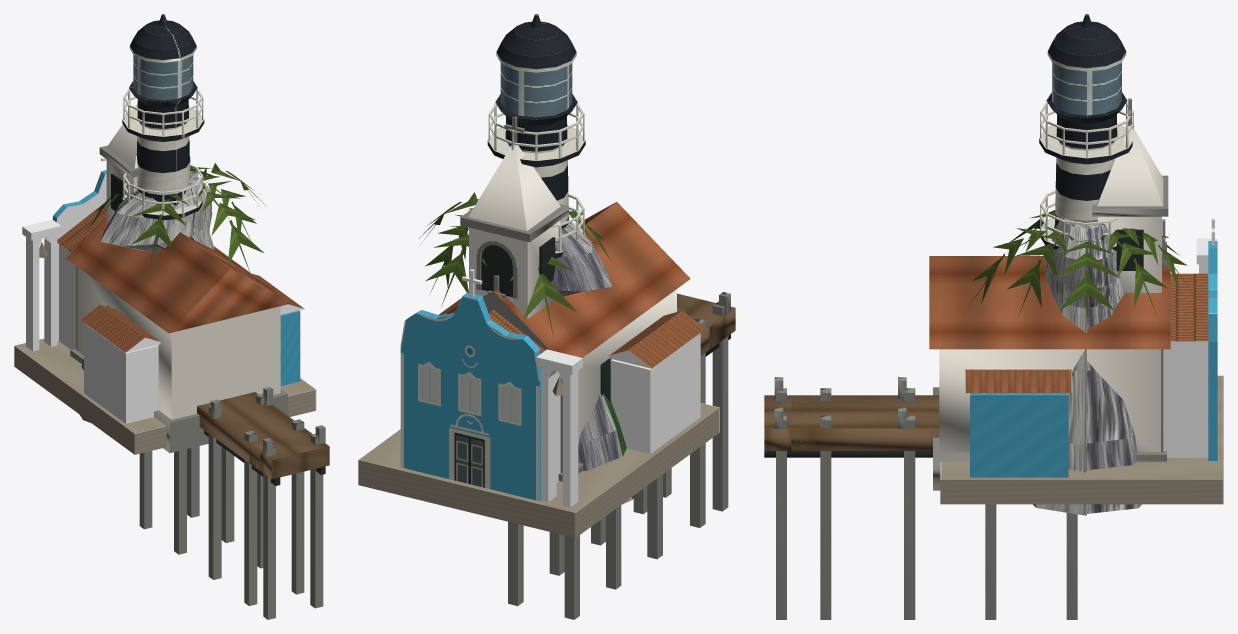
File: landmark-features.v1.glb
3 views of the same model, side by side, from view 1: azimuth 30°, elevation 25°; view 2: azimuth 150°, elevation 25°; view 3: azimuth 270°, elevation 25° (orthographic). The views are drawn at different scales.
Parts seen in each view (by area): view 1: ilha-grande-sao-sebastiao, boipeba-divino-church, ilha-grande-abraao-pier, abrolhos-lighthouse, ilha-grande-papagaio, boipeba-coconut-palm; view 2: boipeba-divino-church, ilha-grande-sao-sebastiao, ilha-grande-abraao-pier, abrolhos-lighthouse, ilha-grande-papagaio, boipeba-coconut-palm; view 3: ilha-grande-sao-sebastiao, boipeba-divino-church, ilha-grande-abraao-pier, abrolhos-lighthouse, ilha-grande-papagaio, boipeba-coconut-palm.
Boxes of the visible parts, x1,y1,x2,y2 form: ilha-grande-sao-sebastiao: [66, 103, 291, 452]; boipeba-divino-church: [14, 157, 316, 454]; ilha-grande-abraao-pier: [139, 387, 329, 619]; abrolhos-lighthouse: [122, 14, 204, 220]; ilha-grande-papagaio: [79, 171, 214, 422]; boipeba-coconut-palm: [88, 163, 266, 276]; boipeba-divino-church: [358, 269, 719, 537]; ilha-grande-sao-sebastiao: [445, 116, 690, 481]; ilha-grande-abraao-pier: [508, 292, 735, 619]; abrolhos-lighthouse: [487, 14, 585, 257]; ilha-grande-papagaio: [550, 223, 634, 504]; boipeba-coconut-palm: [419, 192, 611, 337]; ilha-grande-sao-sebastiao: [929, 98, 1170, 490]; boipeba-divino-church: [940, 218, 1223, 504]; ilha-grande-abraao-pier: [764, 377, 1077, 619]; abrolhos-lighthouse: [1039, 14, 1133, 250]; ilha-grande-papagaio: [1033, 217, 1141, 515]; boipeba-coconut-palm: [967, 210, 1190, 327].
Size of the model in its own units: 2.11 by 5.28 by 3.73.
Materials: 1 (1 with a texture image).
